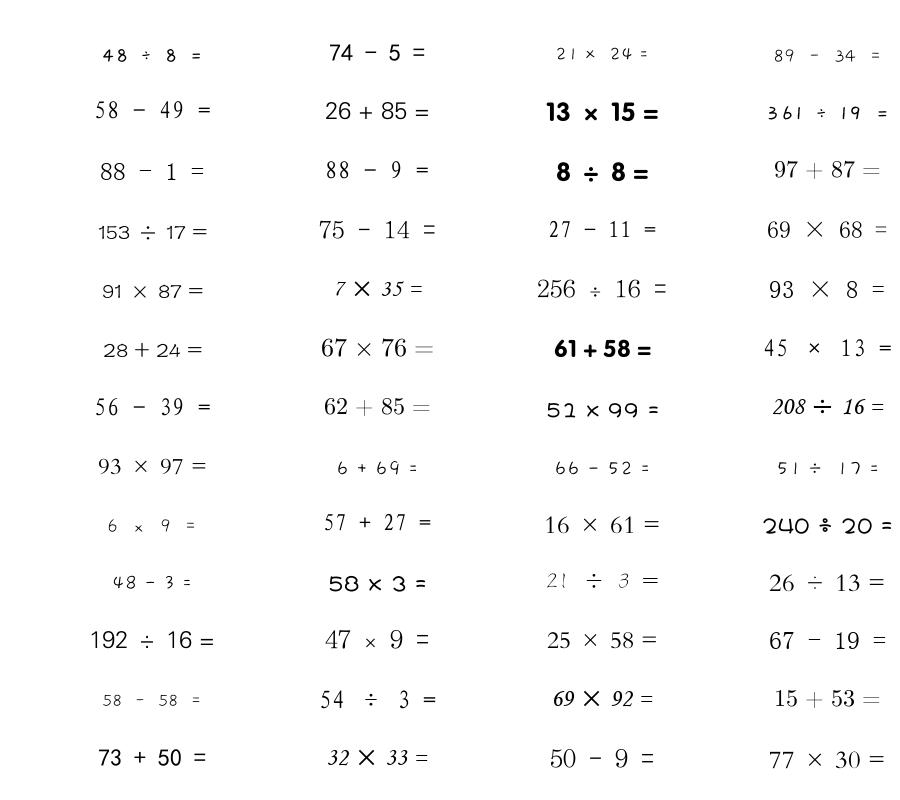MQ: (537, 279, 667, 298), (89, 630, 215, 649), (763, 339, 892, 357), (546, 102, 659, 122), (319, 220, 436, 239), (319, 690, 436, 709), (321, 338, 434, 357), (94, 101, 211, 119), (94, 398, 211, 416), (762, 518, 893, 534), (544, 516, 660, 534), (769, 574, 885, 592), (769, 751, 885, 769), (325, 629, 429, 649), (550, 748, 654, 768), (767, 221, 887, 238), (774, 160, 881, 179), (324, 397, 431, 416), (774, 689, 881, 708), (325, 101, 430, 120), (769, 632, 886, 649), (769, 281, 885, 298), (548, 220, 656, 238), (323, 513, 431, 531), (98, 749, 206, 767), (771, 398, 884, 415), (547, 632, 658, 649), (325, 161, 429, 179), (556, 162, 649, 182), (98, 458, 207, 475), (554, 339, 651, 358), (546, 402, 659, 418), (546, 573, 659, 589), (100, 163, 204, 180), (551, 690, 653, 707), (326, 749, 428, 766), (766, 106, 889, 120), (328, 575, 427, 592), (98, 225, 207, 240), (329, 44, 425, 61), (103, 342, 202, 358), (776, 461, 879, 476), (773, 49, 882, 63), (554, 461, 650, 476), (333, 281, 422, 297), (102, 284, 203, 298), (101, 49, 203, 62), (555, 47, 649, 61), (336, 460, 418, 476), (102, 694, 202, 707), (107, 519, 197, 533), (112, 575, 192, 590)
